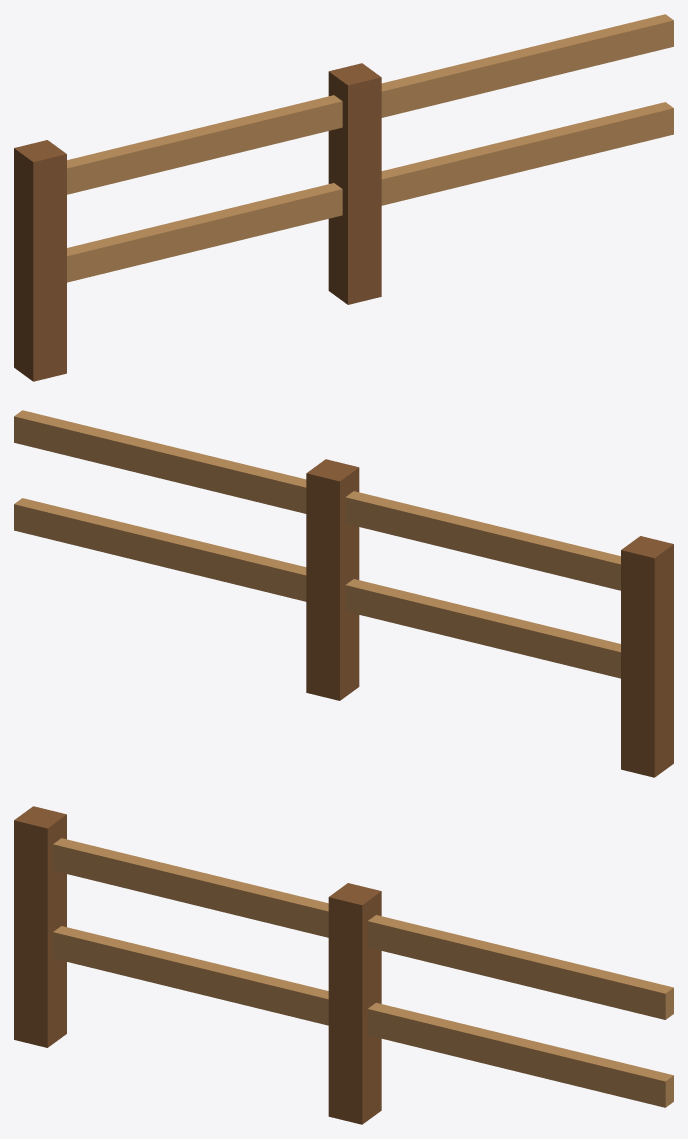
File: fence_segment.glb
The picture shows the model from 3 angles, top to bottom: view 1: azimuth 30°, elevation 25°; view 2: azimuth 150°, elevation 25°; view 3: azimuth 330°, elevation 25°; orthographic projection.
Parts seen in each view (by area): view 1: fence_segment.001; view 2: fence_segment.001; view 3: fence_segment.001.
Boxes of the visible parts, bbox=[...] form: fence_segment.001: bbox=[14, 14, 673, 381]; fence_segment.001: bbox=[14, 410, 673, 777]; fence_segment.001: bbox=[14, 806, 673, 1124].
Bounding box in the file's own units: 3.08 × 1 × 0.16.
1 material, 1 textured.
